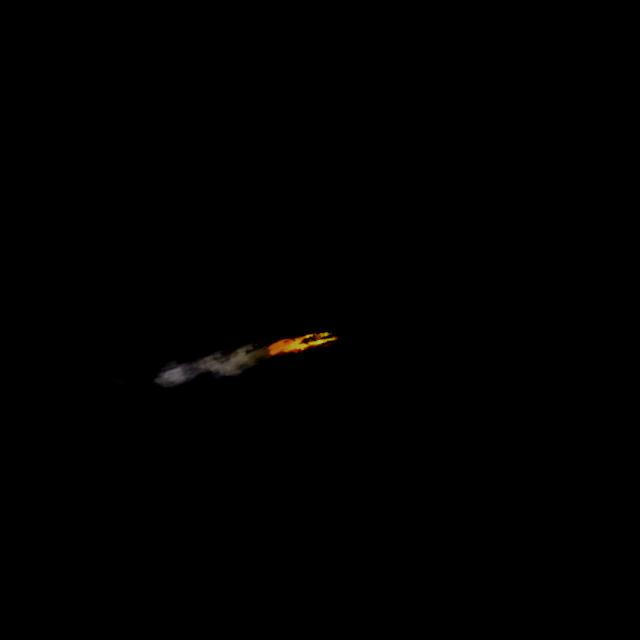fire: (266, 321, 338, 360)
smoke: (98, 319, 274, 413)
